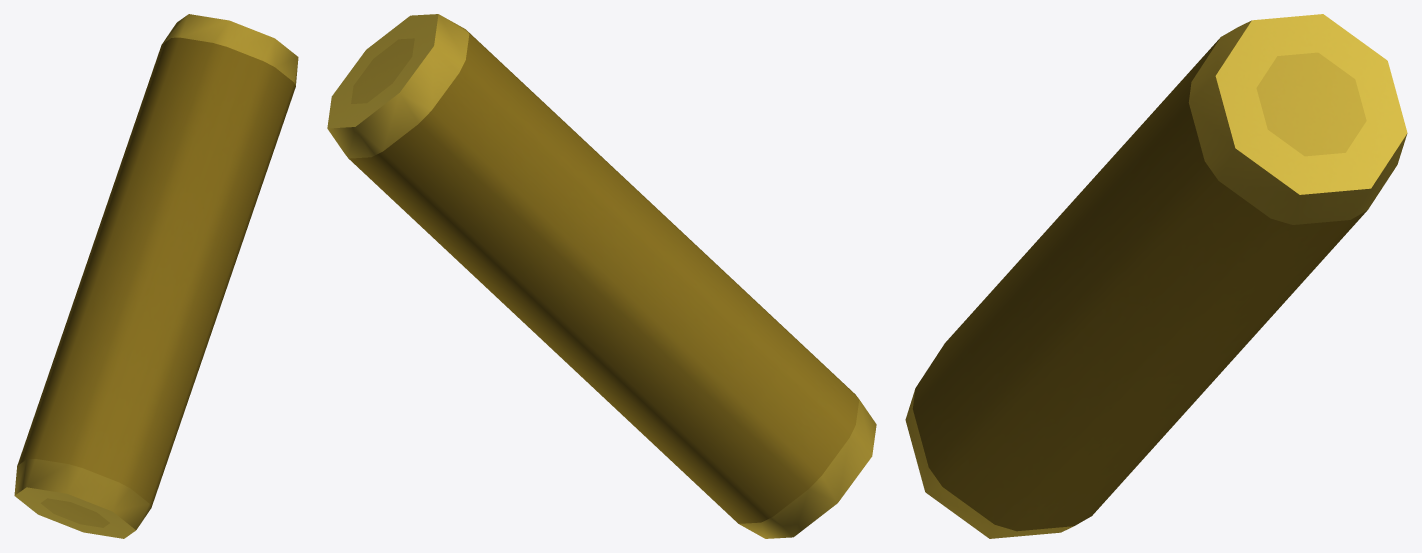
Rendered from brevno.fbx.
3 renders of one model, left to right at view 1: azimuth 30°, elevation 25°; view 2: azimuth 150°, elevation 25°; view 3: azimuth 270°, elevation 25°, orthographic. The views are drawn at different scales.
Visible parts, largest first — view 1: Cylinder.012; view 2: Cylinder.012; view 3: Cylinder.012.
Part boxes in pixels (<box>): Cylinder.012: <box>14,14,298,538</box>; Cylinder.012: <box>327,14,876,538</box>; Cylinder.012: <box>905,14,1407,538</box>.
Bounding box in the file's own units: 132 × 151 × 102.
